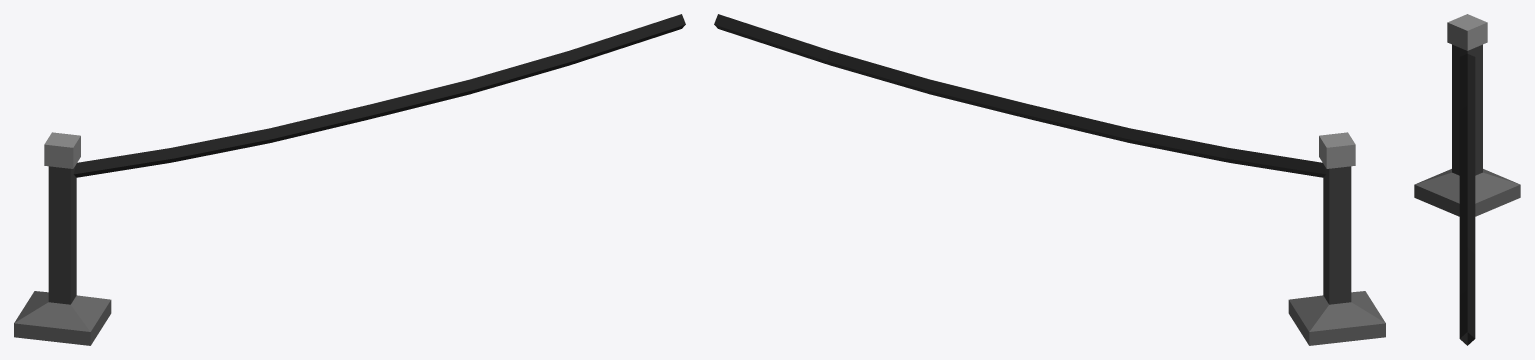
File: rope_line.FBX
3 views of the same model, side by side, from view 1: azimuth 30°, elevation 25°; view 2: azimuth 150°, elevation 25°; view 3: azimuth 270°, elevation 25° (orthographic). The views are drawn at different scales.
Visible parts, largest first — view 1: rope_line; view 2: rope_line; view 3: rope_line.
Part boxes in pixels (left/top/right/bottom): rope_line: left=14, top=14, right=685, bottom=345; rope_line: left=714, top=14, right=1385, bottom=345; rope_line: left=1414, top=14, right=1520, bottom=345.
Bounding box in the file's own units: 191 × 50.69 × 27.84.
